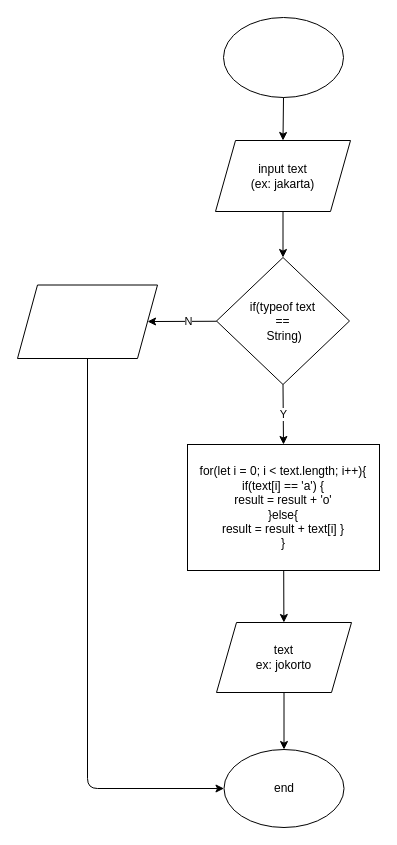
The diagram is 397 pixels wide and 845 high, and some of its shapes have lost their labels. The centre of each missing label's shape, as x and y in pixels:
"Start" goes at point 283,57.
"Tipe Data Teks Harus String !" goes at point 87,321.
